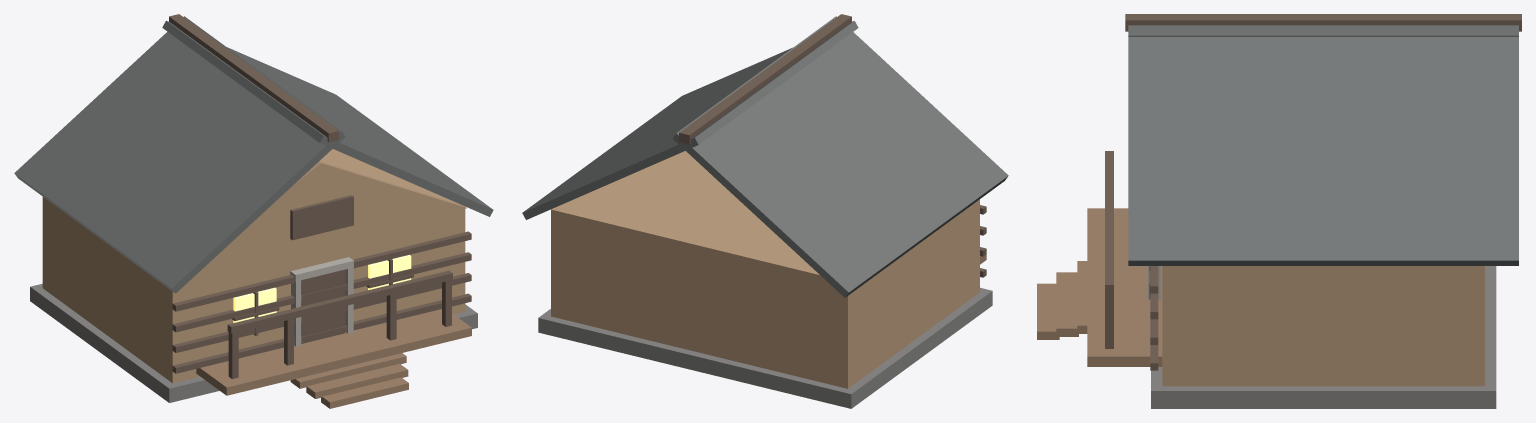
The model's file is Midgard_Fisher_House_V1_YUP.glb.
3 renders of one model, left to right at view 1: azimuth 30°, elevation 25°; view 2: azimuth 150°, elevation 25°; view 3: azimuth 270°, elevation 25°, orthographic. The views are drawn at different scales.
Visible parts, largest first — view 1: Fisher_Roof_L, Fisher_Main, Fisher_Gable, Fisher_Roof_R, Fisher_Porch, Fisher_Foundation, Fisher_Roof_Ridge, Fisher_PorchBeam, Fisher_Log_2.25, Fisher_Log_1.75, Fisher_Log_0.75, Fisher_Loft (+14 smaller); view 2: Fisher_Main, Fisher_Roof_L, Fisher_Foundation, Fisher_Roof_R, Fisher_Roof_Ridge; view 3: Fisher_Roof_R, Fisher_Main, Fisher_Foundation, Fisher_Porch, Fisher_Roof_Ridge, Fisher_Roof_L, Fisher_Step1, Fisher_PorchBeam, Fisher_Step2, Fisher_Step0, Fisher_Post_2.7.
Boxes of the visible parts, left/top/right/bottom form: Fisher_Roof_L: left=14, top=16, right=345, bottom=293; Fisher_Main: left=42, top=149, right=465, bottom=383; Fisher_Gable: left=197, top=161, right=466, bottom=273; Fisher_Roof_R: left=162, top=20, right=493, bottom=216; Fisher_Porch: left=196, top=309, right=471, bottom=395; Fisher_Foundation: left=30, top=283, right=477, bottom=402; Fisher_Roof_Ridge: left=169, top=14, right=338, bottom=142; Fisher_PorchBeam: left=227, top=270, right=452, bottom=333; Fisher_Log_2.25: left=172, top=231, right=471, bottom=311; Fisher_Log_1.75: left=172, top=252, right=471, bottom=332; Fisher_Log_0.75: left=172, top=293, right=471, bottom=373; Fisher_Loft: left=290, top=195, right=353, bottom=240; Fisher_Main: left=551, top=151, right=979, bottom=388; Fisher_Roof_L: left=672, top=16, right=1008, bottom=297; Fisher_Foundation: left=538, top=287, right=992, bottom=408; Fisher_Roof_R: left=522, top=21, right=858, bottom=219; Fisher_Roof_Ridge: left=679, top=14, right=851, bottom=144; Fisher_Roof_R: left=1128, top=37, right=1518, bottom=265; Fisher_Main: left=1162, top=266, right=1484, bottom=386; Fisher_Foundation: left=1151, top=266, right=1496, bottom=408; Fisher_Porch: left=1087, top=208, right=1162, bottom=366; Fisher_Roof_Ridge: left=1125, top=14, right=1521, bottom=31; Fisher_Roof_L: left=1128, top=25, right=1518, bottom=36; Fisher_Step1: left=1056, top=272, right=1078, bottom=336; Fisher_PorchBeam: left=1105, top=151, right=1113, bottom=292; Fisher_Step2: left=1037, top=283, right=1059, bottom=339; Fisher_Step0: left=1077, top=261, right=1087, bottom=333; Fisher_Post_2.7: left=1105, top=293, right=1113, bottom=348.
Bounding box in the file's own units: 8.14 × 5.82 × 8.56.
